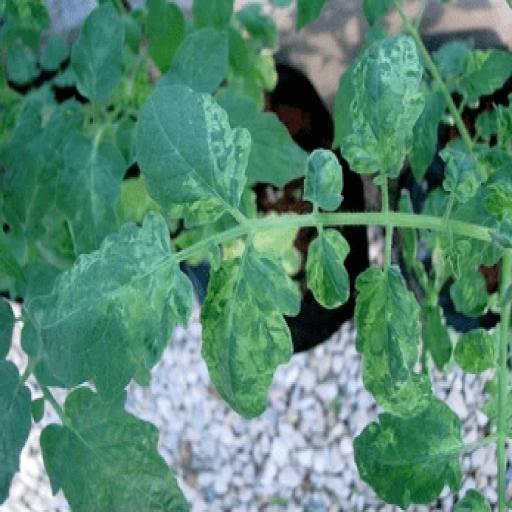disease_tomato: (18, 208, 196, 406), (133, 80, 255, 232), (200, 242, 302, 420), (332, 22, 426, 188), (350, 394, 462, 512), (352, 261, 432, 419), (304, 226, 356, 314), (436, 134, 488, 204), (298, 142, 344, 212)
